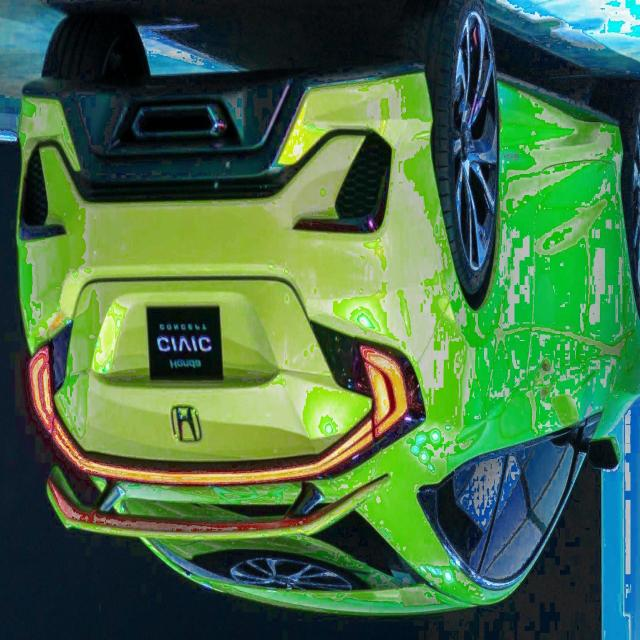green: (11, 0, 640, 616)
